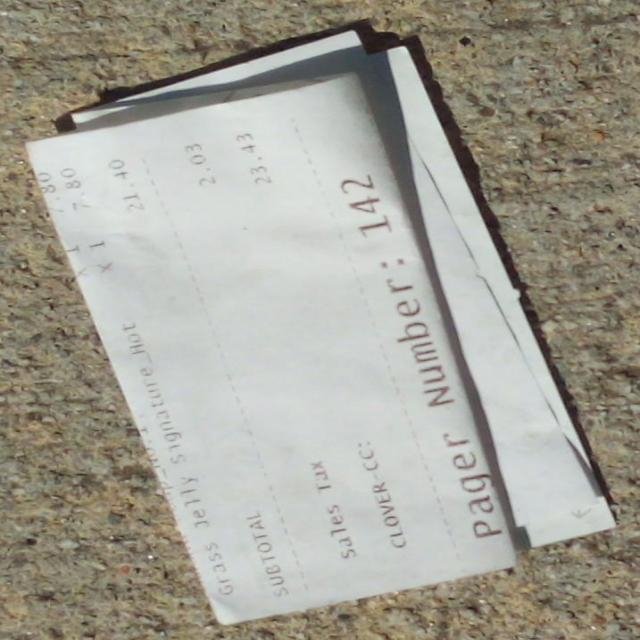litter: (21, 26, 627, 625)
